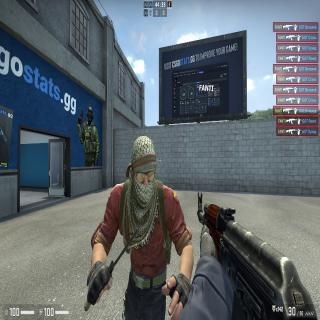T-Body: (124, 137, 167, 320)
T-Head: (128, 138, 158, 202)
